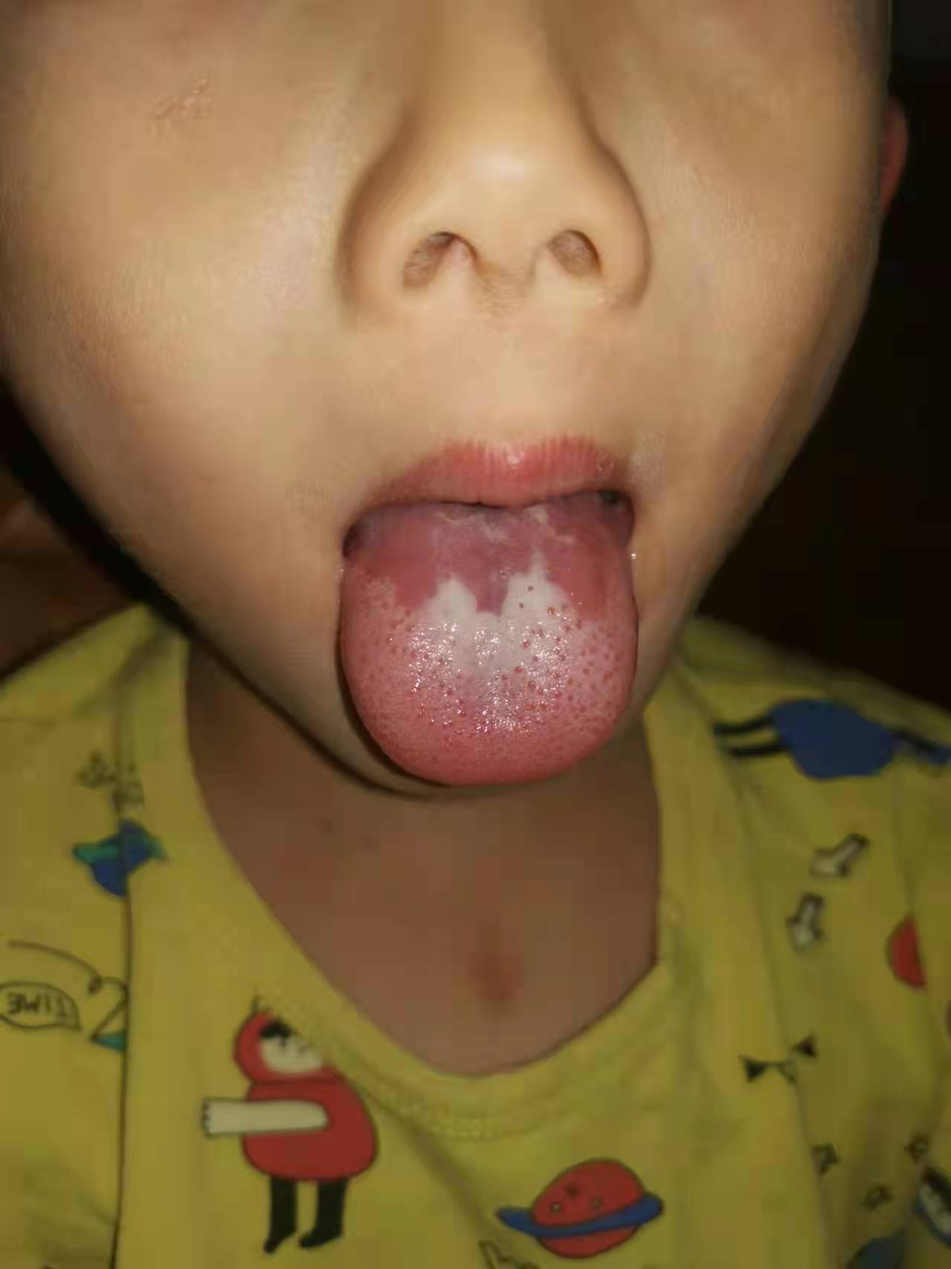baitaishe: (339, 492, 638, 786)
botaishe: (433, 506, 538, 620)
hongdianshe: (524, 582, 535, 595), (445, 684, 454, 698), (546, 605, 555, 618), (553, 633, 562, 645), (521, 639, 530, 650), (514, 664, 523, 674)
hongshe: (338, 492, 637, 786)
